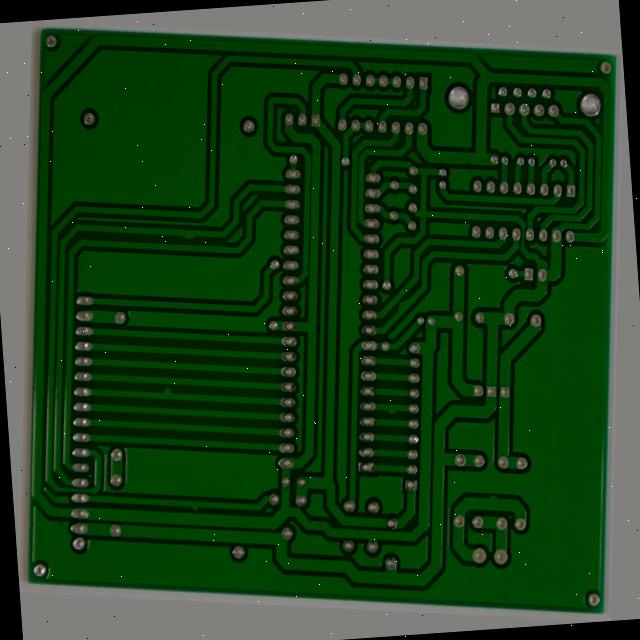spur: (393, 280, 420, 306), (148, 409, 172, 433), (192, 534, 212, 554), (395, 401, 416, 419), (511, 489, 534, 505)
